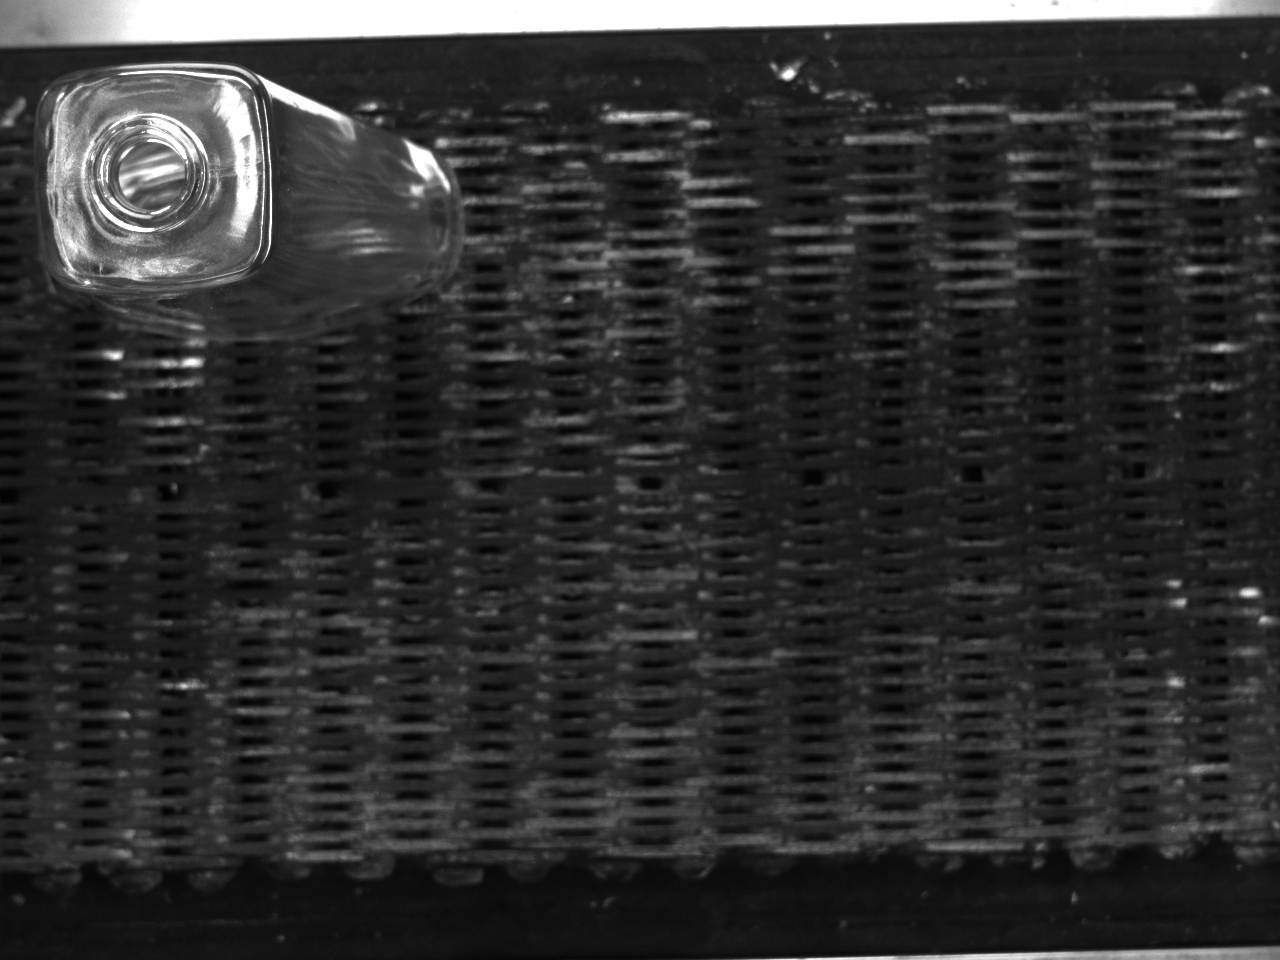bottleneck: (87, 112, 210, 235)
